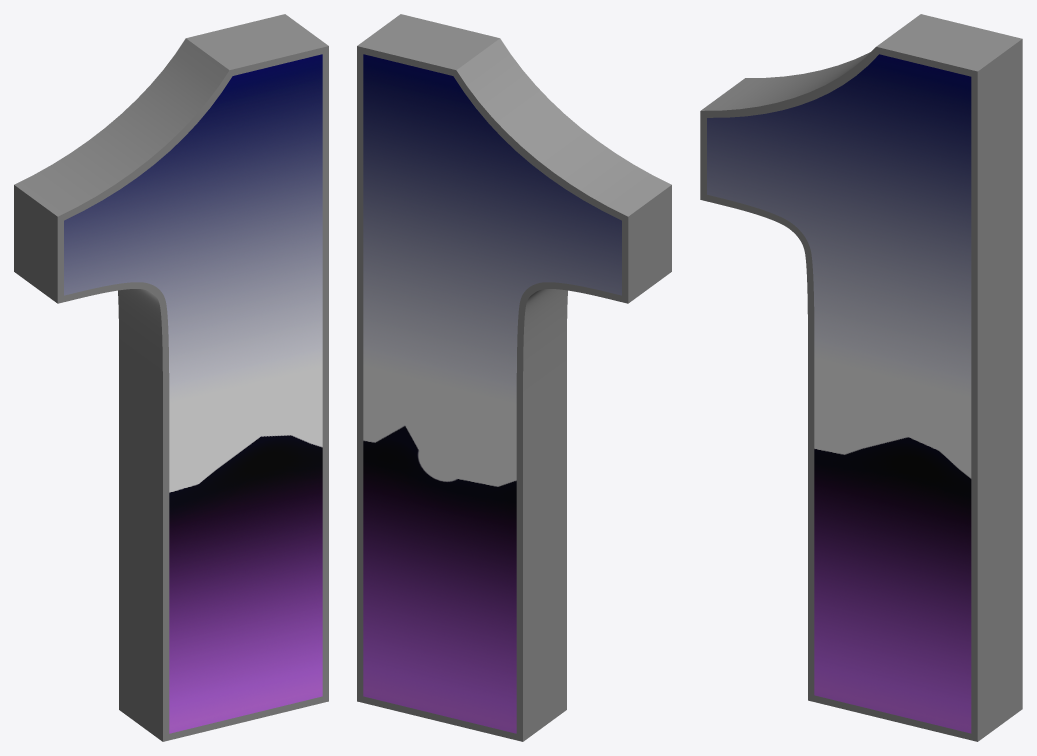
The picture shows the model from 3 angles, left to right: view 1: azimuth 30°, elevation 25°; view 2: azimuth 150°, elevation 25°; view 3: azimuth 330°, elevation 25°; orthographic projection. The views are drawn at different scales.
Visible parts, largest first — view 1: 1, 1_outline; view 2: 1, 1_outline; view 3: 1, 1_outline.
Part boxes in pixels (x1,y1,x2,y2): 1: [64, 54, 322, 733]; 1_outline: [14, 14, 328, 741]; 1: [363, 54, 621, 733]; 1_outline: [357, 14, 671, 741]; 1: [707, 54, 971, 733]; 1_outline: [700, 14, 1022, 741].
Size of the model in its own units: 42.95 by 99.2 by 12.
Materials: 2 (1 with a texture image).
